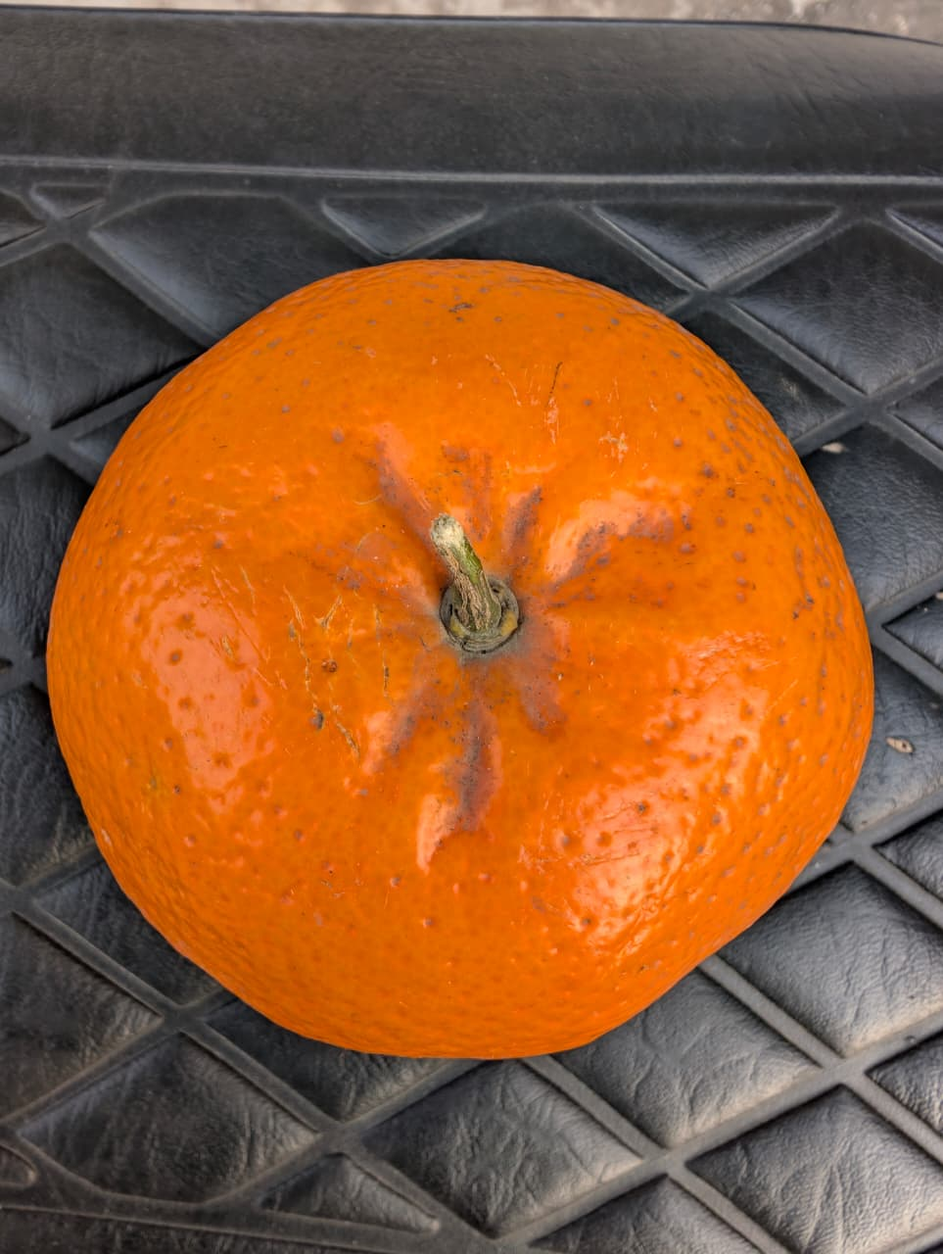orange: (63, 64, 805, 1189)
